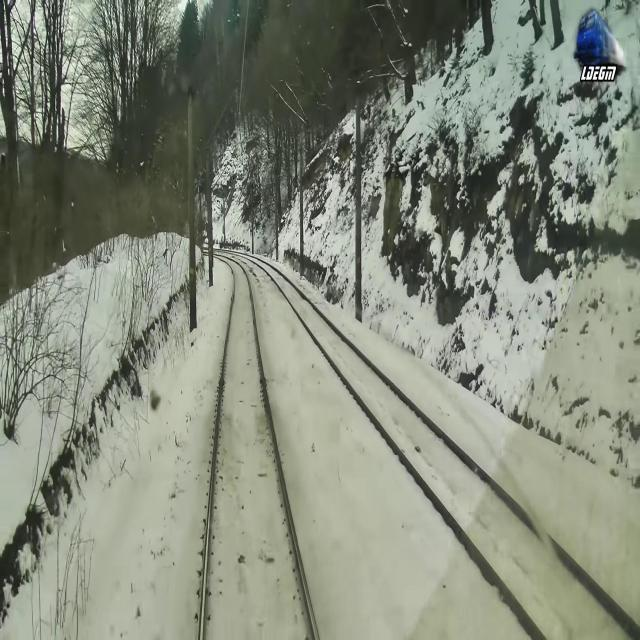rail-track: (246, 256, 640, 639), (202, 256, 313, 639)
